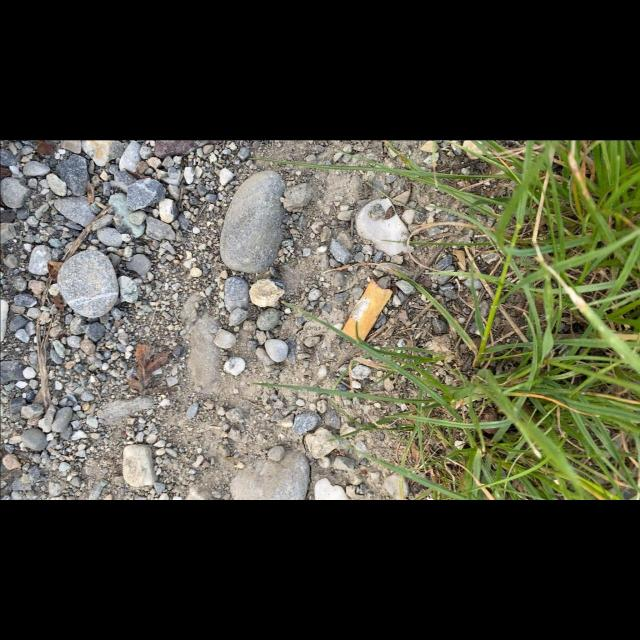cigarette: (341, 278, 394, 342)
